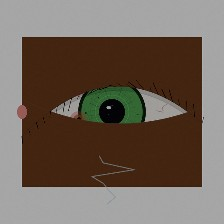foreign_body_visible: (64, 74, 95, 99)
